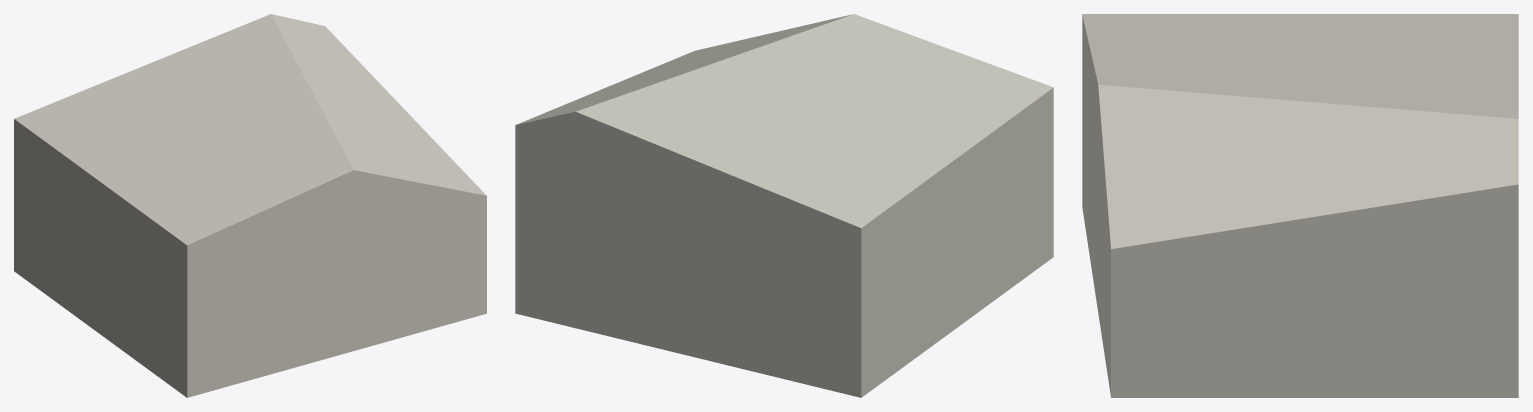
The model's file is Rock_Square_s_04.fbx.
3 renders of one model, left to right at view 1: azimuth 30°, elevation 25°; view 2: azimuth 150°, elevation 25°; view 3: azimuth 270°, elevation 25°, orthographic. The views are drawn at different scales.
Parts seen in each view (by area): view 1: Rock_Square_s_04; view 2: Rock_Square_s_04; view 3: Rock_Square_s_04.
Part boxes in pixels (box(x1,y1,x2,y2)): Rock_Square_s_04: box(14, 14, 486, 397); Rock_Square_s_04: box(515, 14, 1053, 397); Rock_Square_s_04: box(1082, 14, 1518, 397).
Bounding box in the file's own units: 38.21 × 22.85 × 36.81.
